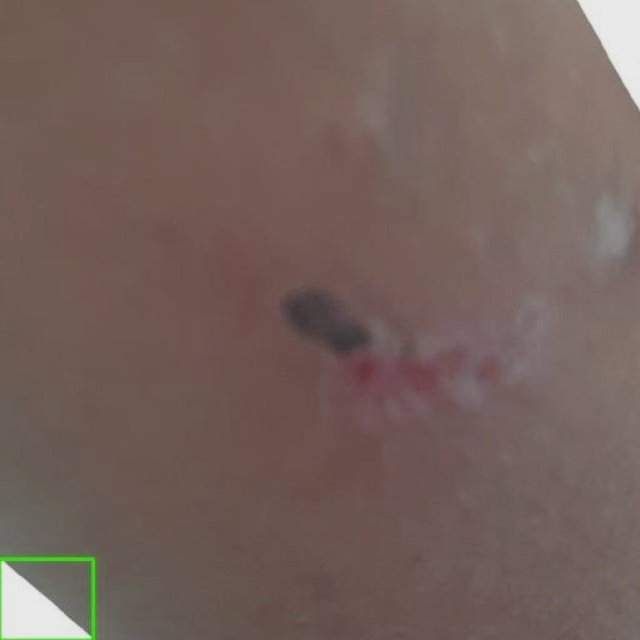Scabies: (0, 559, 93, 639)
